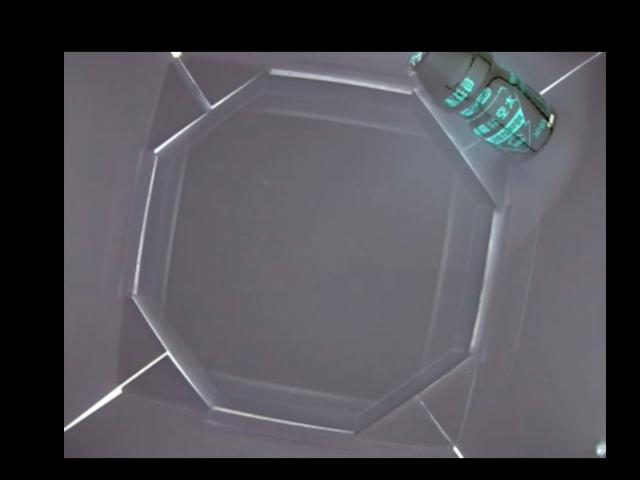Bottle: (407, 52, 561, 158)
